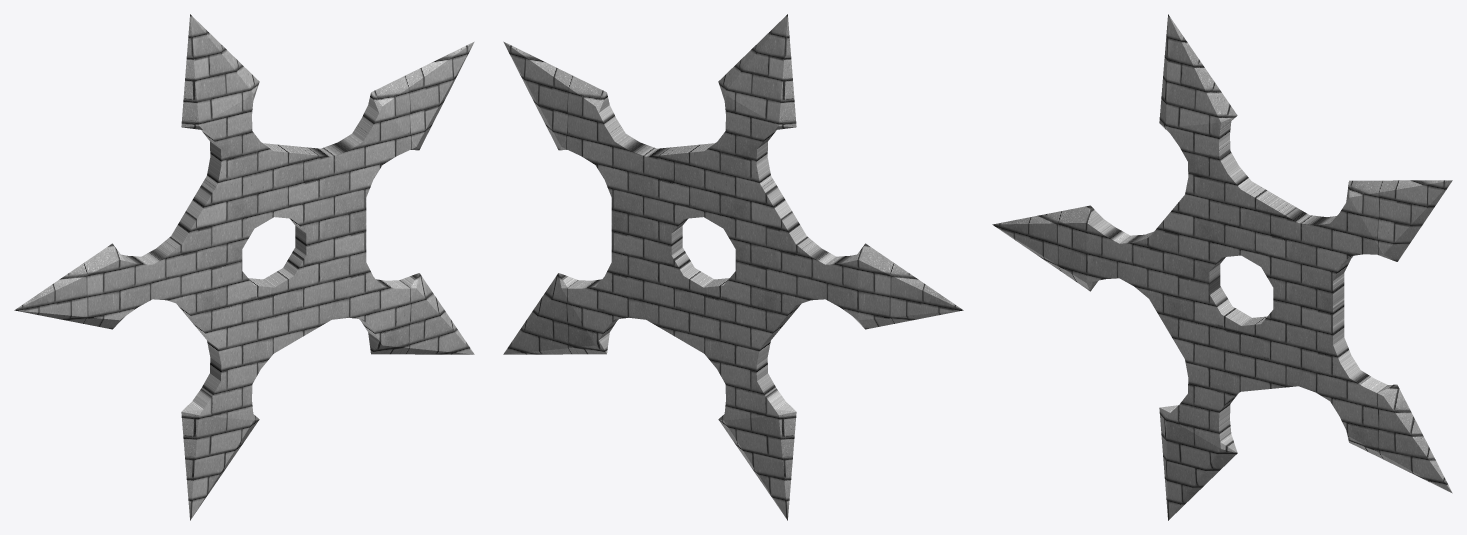
The model's file is ShurikenWithTris.obj.
3 views of the same model, side by side, from view 1: azimuth 30°, elevation 25°; view 2: azimuth 150°, elevation 25°; view 3: azimuth 330°, elevation 25° (orthographic).
Parts seen in each view (by area): view 1: Tube001; view 2: Tube001; view 3: Tube001.
Boxes of the visible parts, <box> form: Tube001: <box>14,14,474,520</box>; Tube001: <box>503,14,963,520</box>; Tube001: <box>992,14,1452,520</box>.
Size of the model in its own units: 23.96 by 25.2 by 1.
Materials: 1 (1 with a texture image).
